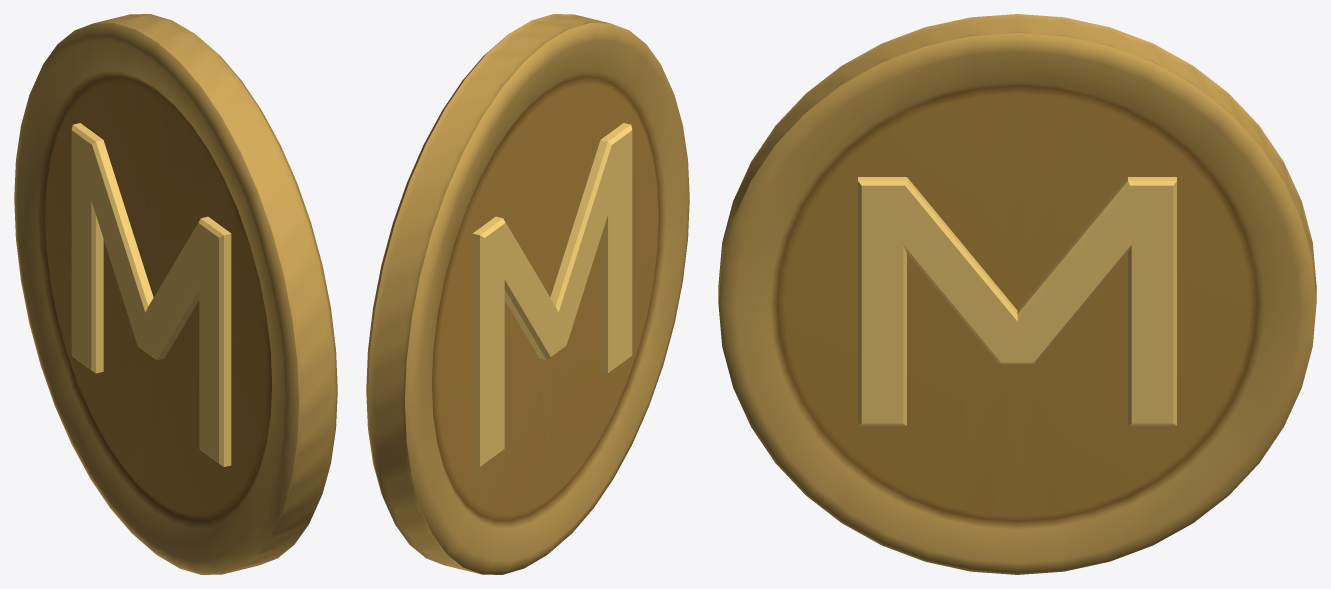
Rendered from ArcadeCoin.glb.
3 renders of one model, left to right at view 1: azimuth 30°, elevation 25°; view 2: azimuth 150°, elevation 25°; view 3: azimuth 270°, elevation 25°, orthographic. The views are drawn at different scales.
Visible parts, largest first — view 1: ArcadeCoin_CoinGold, ArcadeCoin_CoinRaisedMark; view 2: ArcadeCoin_CoinGold, ArcadeCoin_CoinRaisedMark; view 3: ArcadeCoin_CoinGold, ArcadeCoin_CoinRaisedMark.
Part boxes in pixels (left/top/right/bottom): ArcadeCoin_CoinGold: left=14, top=14, right=337, bottom=574; ArcadeCoin_CoinRaisedMark: left=71, top=123, right=231, bottom=466; ArcadeCoin_CoinGold: left=366, top=14, right=689, bottom=574; ArcadeCoin_CoinRaisedMark: left=472, top=123, right=632, bottom=466; ArcadeCoin_CoinGold: left=718, top=14, right=1316, bottom=574; ArcadeCoin_CoinRaisedMark: left=858, top=177, right=1176, bottom=425.
Size of the model in its own units: 0.07 by 0.56 by 0.56.
